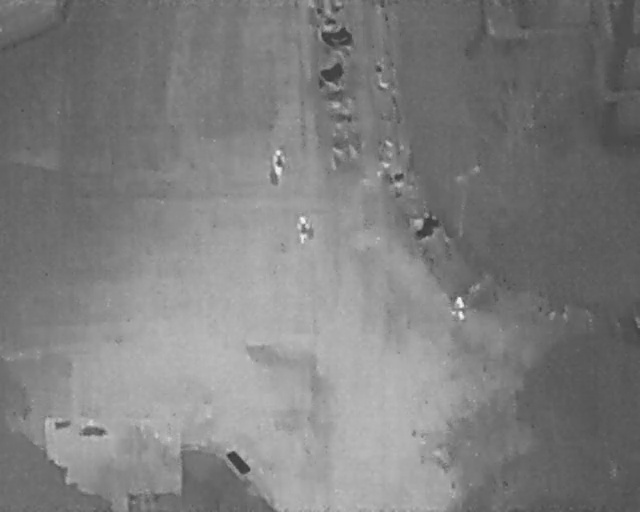Bicycle: (404, 209, 444, 248), (325, 135, 362, 160), (316, 61, 349, 89), (310, 2, 340, 32), (319, 25, 354, 50), (376, 169, 406, 187), (329, 109, 354, 126)
Person: (272, 147, 288, 183), (296, 212, 312, 248), (450, 293, 466, 324)
